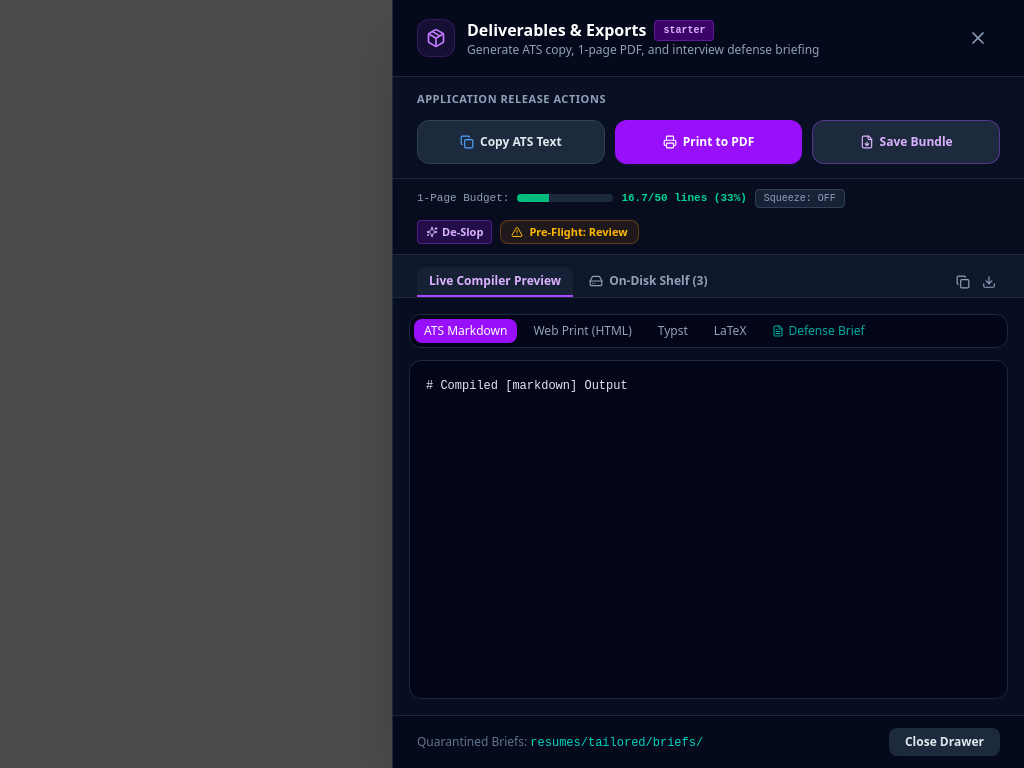
ExportDrawer Component Tests › executes 1-click ATS copy to clipboard
Expected: the text "Copy ATS Text" is shown, [480,134,562,150]
Step 1. Click the button "Copy ATS Text" → (511, 142), box [417,120,605,164]
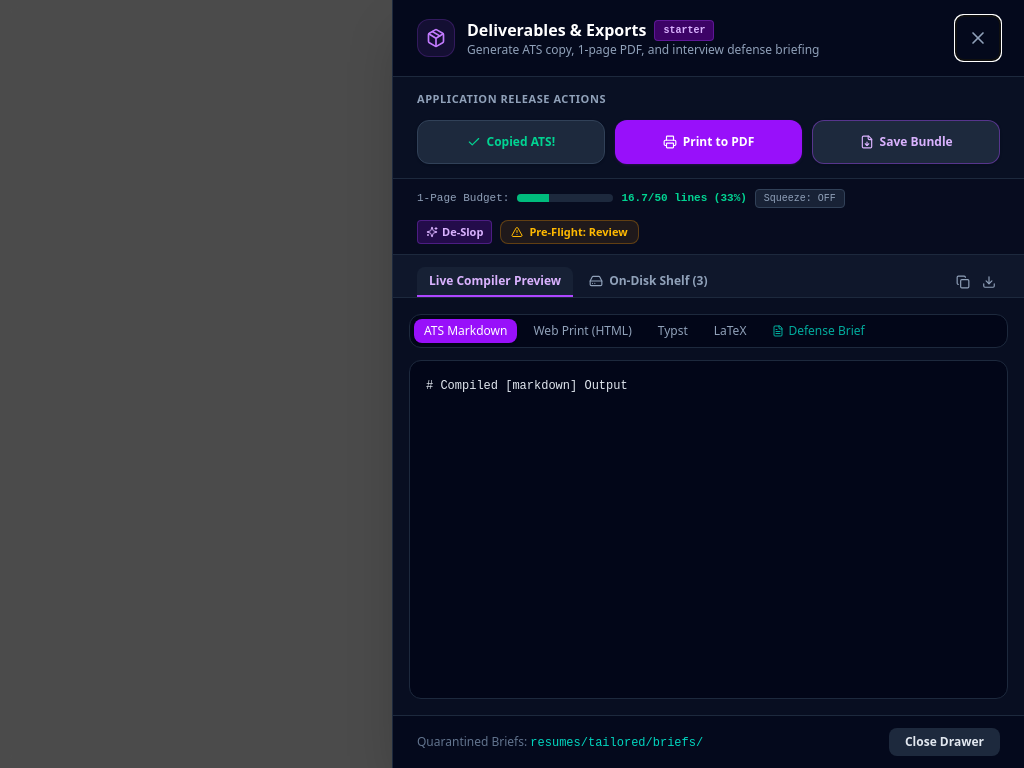
Expected: the text "Copied ATS!" is shown, [486,134,555,150]
